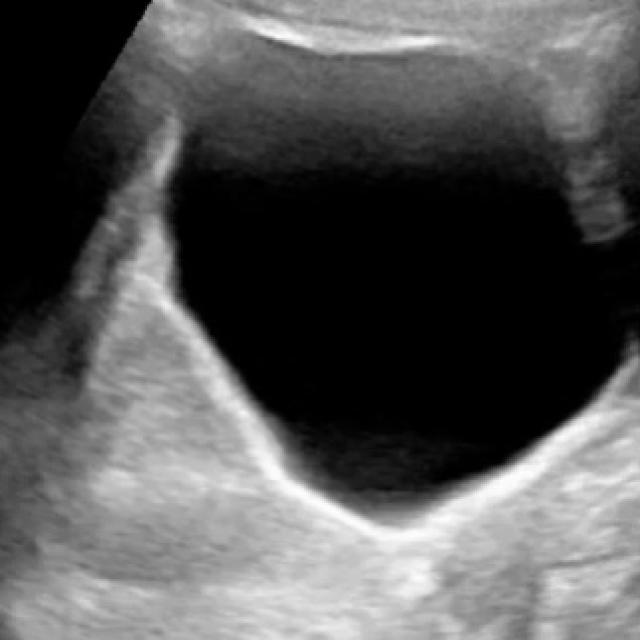bladder: (160, 21, 638, 560)
